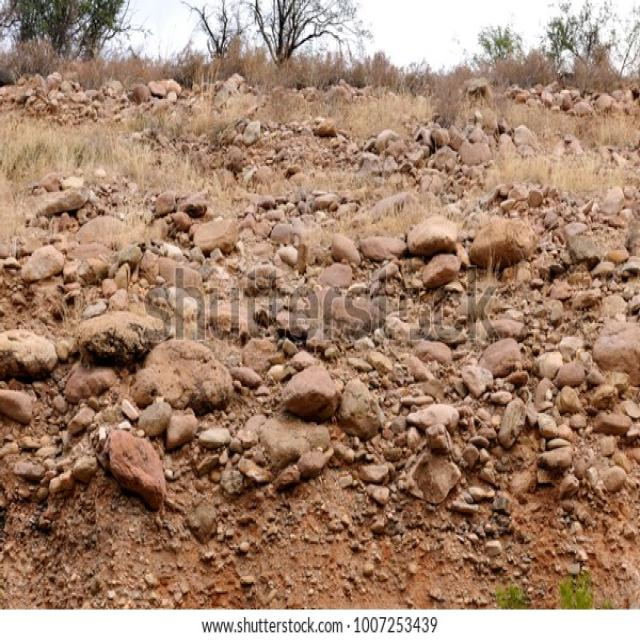Alluvial Soil: (24, 213, 621, 542)
